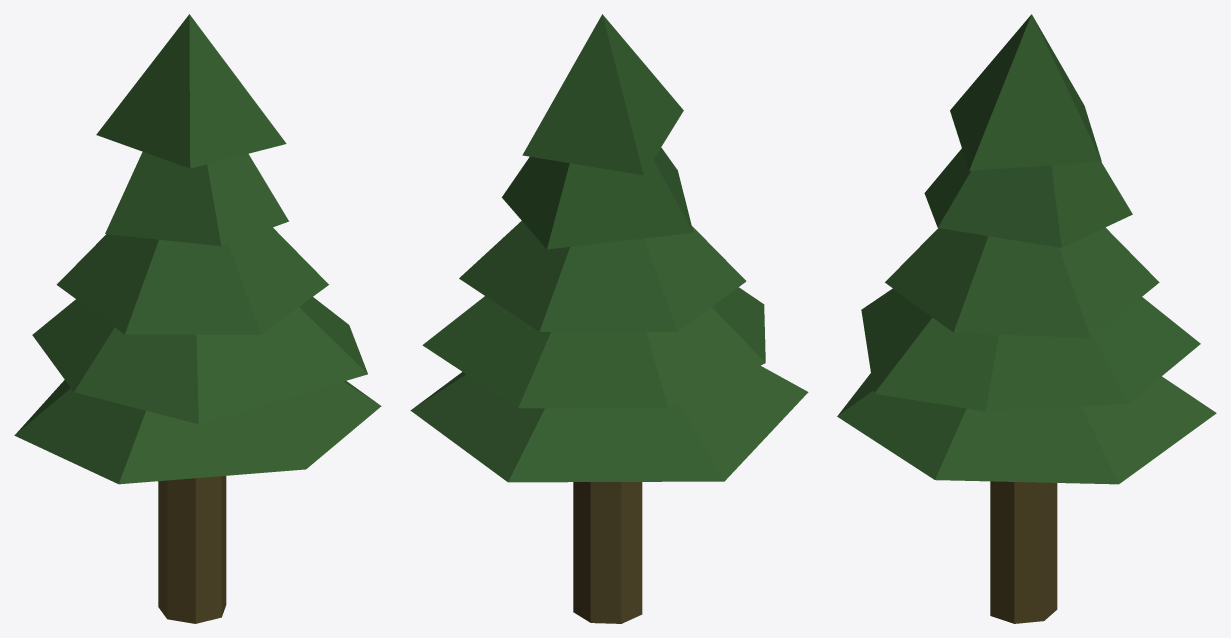
File: Tree1.fbx
The picture shows the model from 3 angles, left to right: view 1: azimuth 30°, elevation 25°; view 2: azimuth 150°, elevation 25°; view 3: azimuth 270°, elevation 25°; orthographic projection.
Visible parts, largest first — view 1: Cone, Cylinder; view 2: Cone, Cylinder; view 3: Cone, Cylinder.
Boxes of the visible parts, x1=… form: Cone: x1=14, y1=14, x2=381, y2=484; Cylinder: x1=158, y1=476, x2=226, y2=623; Cone: x1=410, y1=14, x2=808, y2=482; Cylinder: x1=573, y1=482, x2=642, y2=623; Cone: x1=837, y1=14, x2=1216, y2=484; Cylinder: x1=990, y1=481, x2=1057, y2=623.
Bounding box in the file's own units: 970 × 1865 × 1077.
